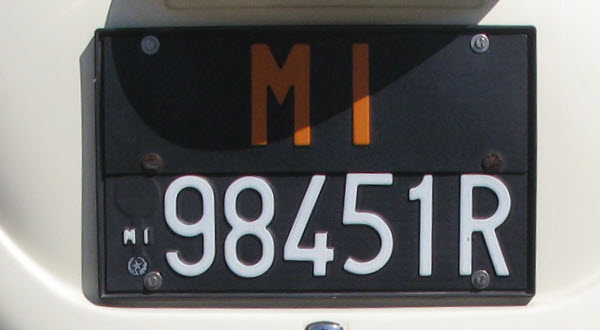license_plate: (92, 26, 539, 297)
